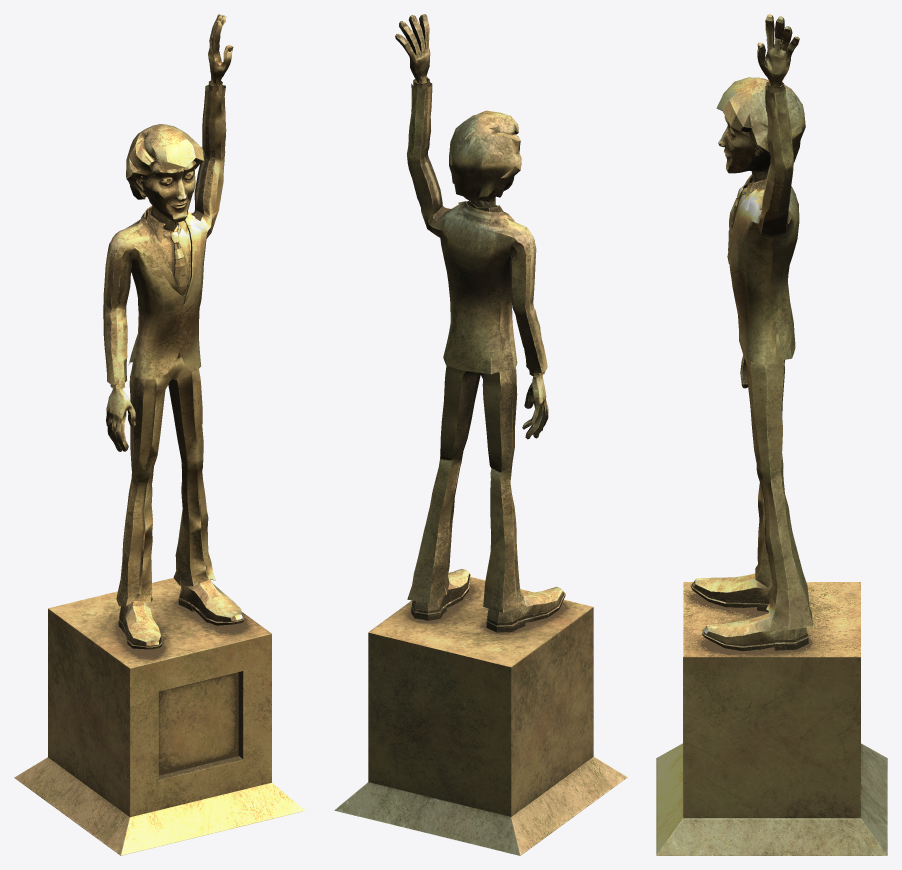
Rendered from ronstatue.fbx.
The picture shows the model from 3 angles, left to right: view 1: azimuth 30°, elevation 25°; view 2: azimuth 150°, elevation 25°; view 3: azimuth 270°, elevation 25°; orthographic projection. The views are drawn at different scales.
Visible parts, largest first — view 1: hair; view 2: hair; view 3: hair.
Boxes of the visible parts, x1,y1,x2,y2 form: hair: (14, 14, 305, 855); hair: (334, 14, 627, 855); hair: (656, 14, 887, 855).
Size of the model in its own units: 68.89 by 271 by 68.89.
Materials: 1 (1 with a texture image).
